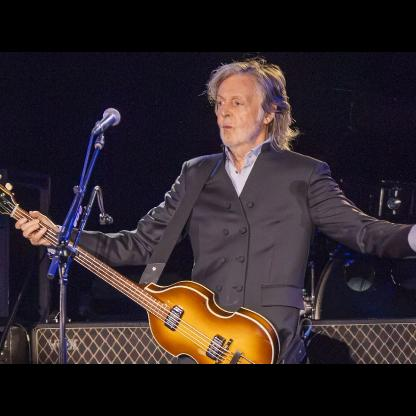bass: (0, 172, 282, 364)
